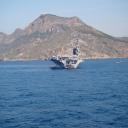Portanaves: (51, 32, 85, 71)
